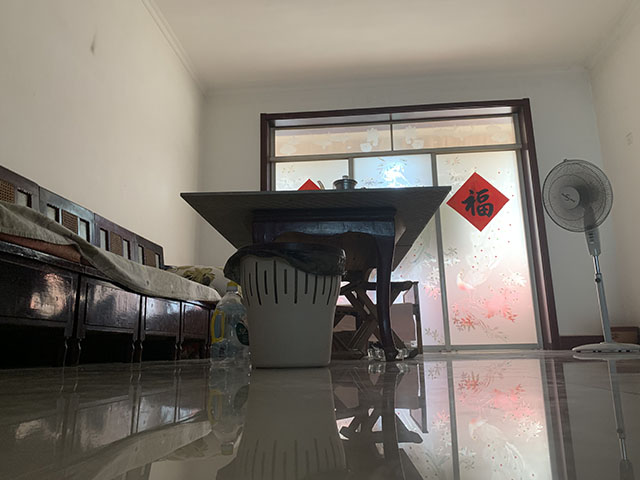sofa: (1, 164, 230, 358)
stool: (339, 280, 420, 359)
table: (179, 185, 453, 363)
trashcan: (222, 240, 347, 368)
